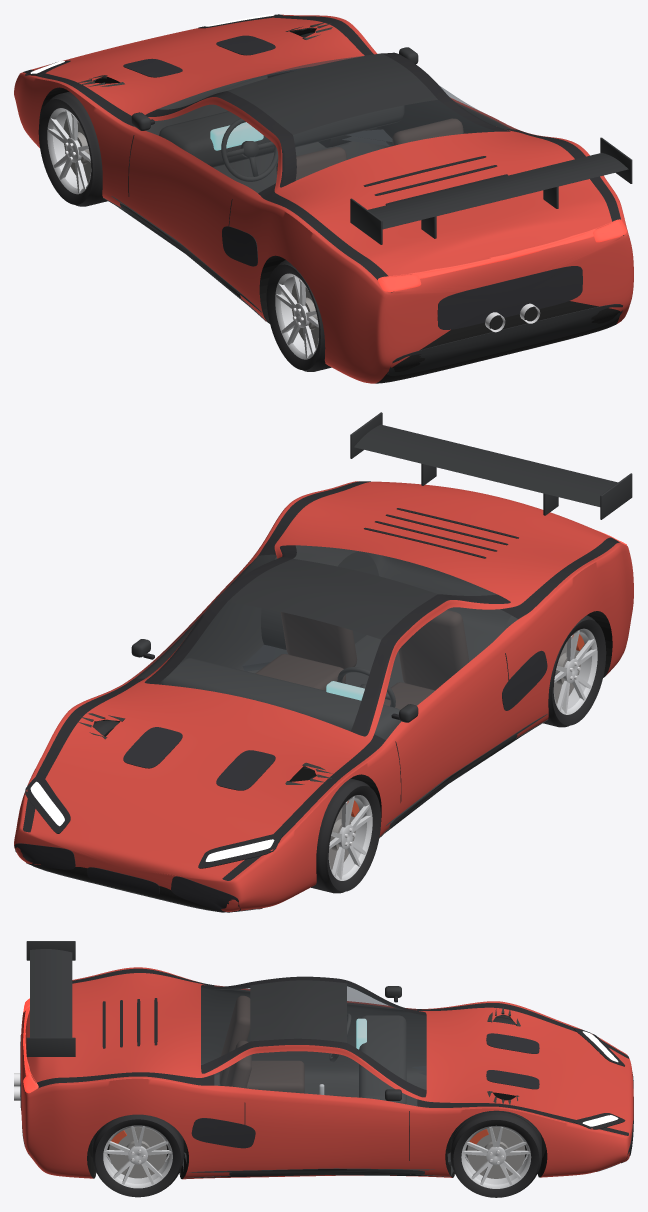
File: VortexS9.glb
3 renders of one model, top to bottom at view 1: azimuth 30°, elevation 25°; view 2: azimuth 150°, elevation 25°; view 3: azimuth 270°, elevation 25°, orthographic. The views are drawn at different scales.
Visible parts, largest first — view 1: VortexS9_Body, VortexS9_Glass, VortexS9_Interior, VortexS9_Wheel_FL, VortexS9_Wheel_RL, VortexS9_Lights_Tail, VortexS9_Steering; view 2: VortexS9_Body, VortexS9_Glass, VortexS9_Interior, VortexS9_Wheel_FL, VortexS9_Wheel_RL, VortexS9_Lights_Head; view 3: VortexS9_Body, VortexS9_Glass, VortexS9_Interior, VortexS9_Wheel_FR, VortexS9_Wheel_RR, VortexS9_Lights_Tail, VortexS9_Lights_Head.
Boxes of the visible parts, <box> form: VortexS9_Body: <box>14,14,633,383</box>; VortexS9_Glass: <box>134,54,516,192</box>; VortexS9_Interior: <box>77,22,511,281</box>; VortexS9_Wheel_FL: <box>38,91,107,206</box>; VortexS9_Wheel_RL: <box>266,260,331,371</box>; VortexS9_Lights_Tail: <box>378,219,626,292</box>; VortexS9_Steering: <box>221,118,278,181</box>; VortexS9_Body: <box>14,412,633,912</box>; VortexS9_Glass: <box>135,545,517,739</box>; VortexS9_Interior: <box>77,545,517,784</box>; VortexS9_Wheel_FL: <box>309,775,381,893</box>; VortexS9_Wheel_RL: <box>543,615,606,727</box>; VortexS9_Lights_Head: <box>30,781,274,861</box>; VortexS9_Body: <box>14,941,633,1179</box>; VortexS9_Glass: <box>201,983,426,1105</box>; VortexS9_Interior: <box>94,983,520,1177</box>; VortexS9_Wheel_FR: <box>450,1110,541,1197</box>; VortexS9_Wheel_RR: <box>92,1114,183,1197</box>; VortexS9_Lights_Tail: <box>23,998,38,1093</box>; VortexS9_Lights_Head: <box>582,1031,618,1126</box>.
Bounding box in the file's own units: 2.06 × 1.29 × 4.67.
